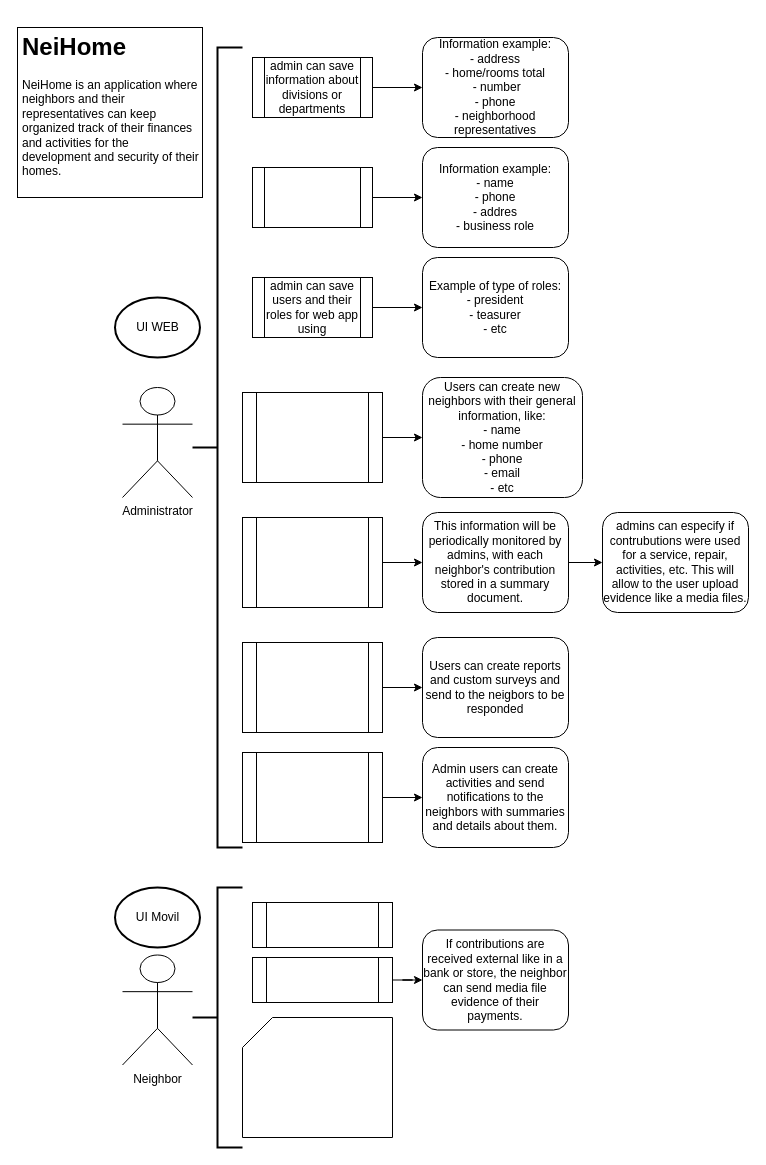
The diagram is 766 pixels wide and 1165 high, and some of its shapes have lost their labels. Each missing label, with the centre of its shape:
Admin can save general information about suppliers: pixel 312 197
admins and app users can create reports and surveys: pixel 312 687
admins can create activities for neigbors: pixel 312 797
admins can create neighbors: pixel 312 437
admins may take a control of neigbors contributions: pixel 312 562
Neigbors can respond to custom surveys: pixel 322 925
Neigbors can see general reports about contributions and custmon surveys results: pixel 317 1077
Neighbors can send evidence of their contributions: pixel 322 979
